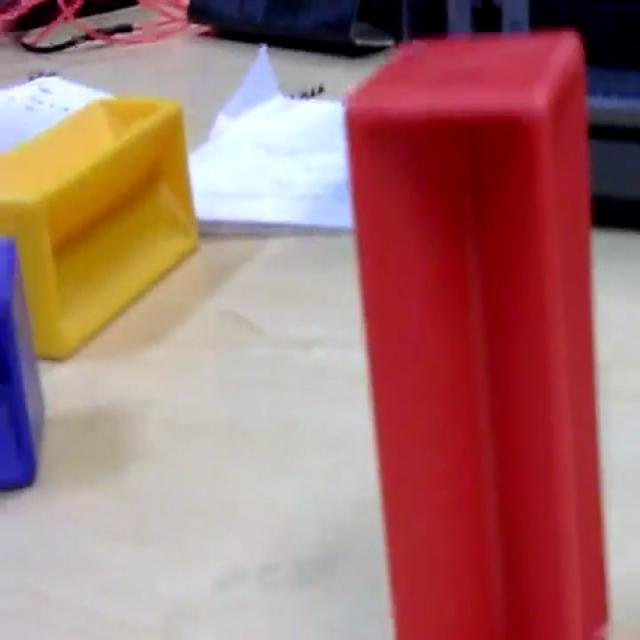red_block: (342, 27, 611, 636)
yellow_block: (0, 92, 199, 360)
